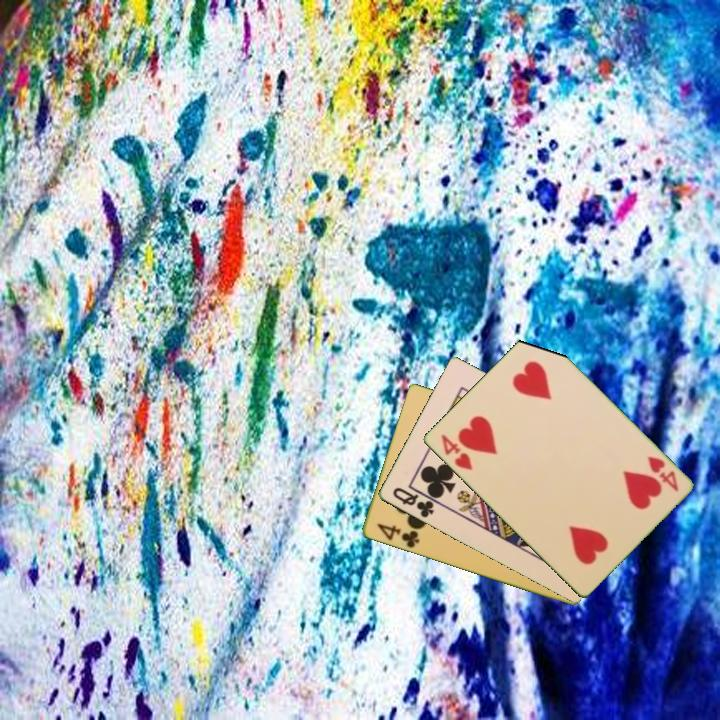4c: (372, 520, 422, 551)
4h: (437, 430, 475, 473), (643, 452, 681, 495)
Qc: (389, 484, 437, 521)
